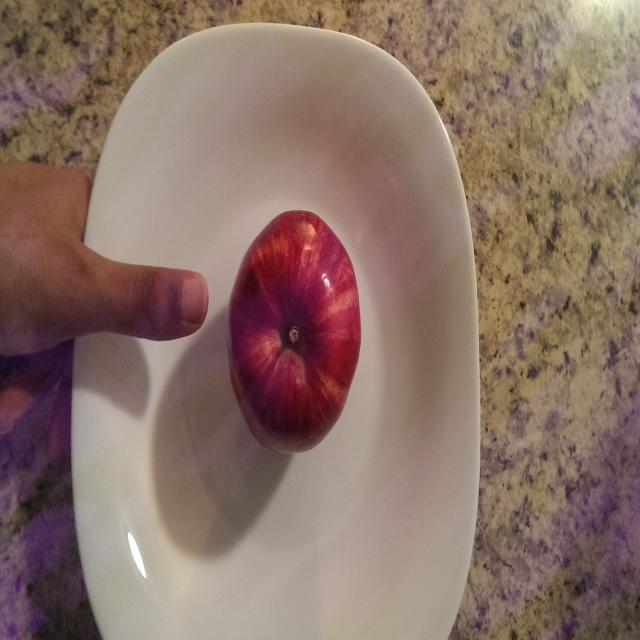apple: (223, 205, 364, 456)
